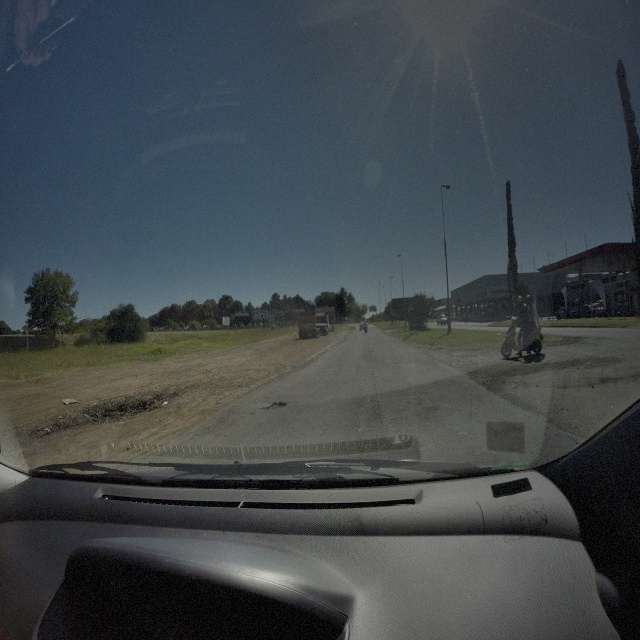pothole: (264, 398, 287, 411)
